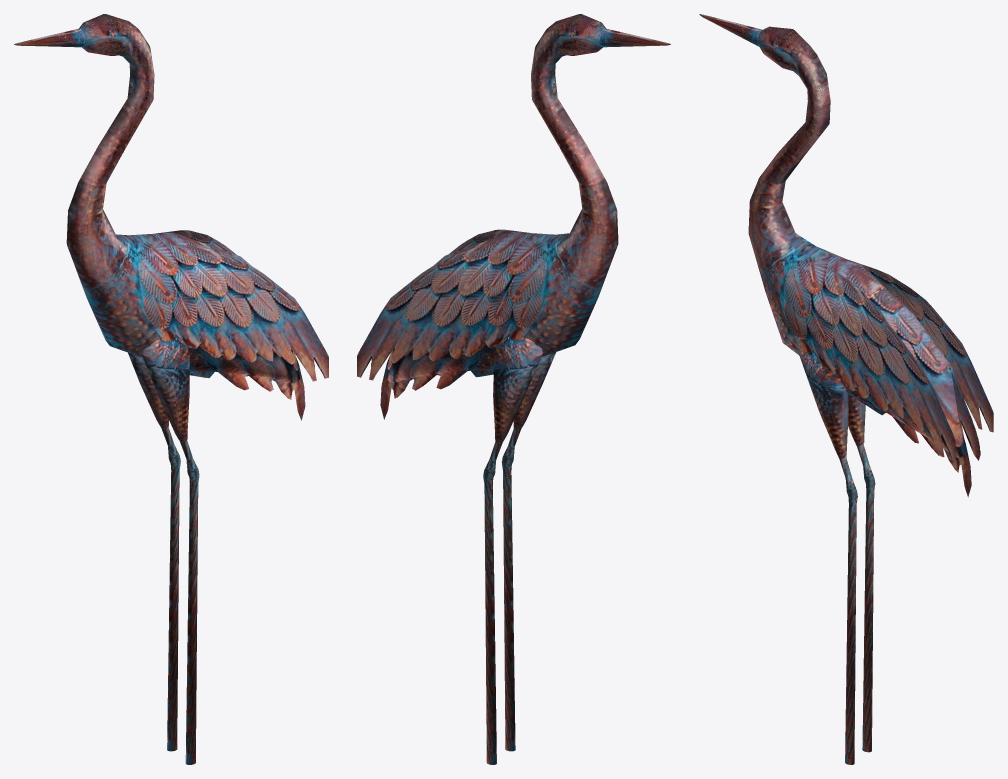
Rendered from Heron_split.fbx.
3 views of the same model, side by side, from view 1: azimuth 30°, elevation 25°; view 2: azimuth 150°, elevation 25°; view 3: azimuth 330°, elevation 25° (orthographic). The views are drawn at different scales.
Visible parts, largest first — view 1: Heron_Body, group_0, Heron_Neck, SketchUp_Instance_1, SketchUp_Instance_0, group_1; view 2: Heron_Body, group_0.001, Heron_Neck, SketchUp_Instance_0, SketchUp_Instance_1, group_1; view 3: Heron_Body, group_0, Heron_Neck, SketchUp_Instance_1, group_0.001, SketchUp_Instance_0, group_1.
Part boxes in pixels (x1,y1,x2,y2): Heron_Body: (67, 232, 300, 383); group_0: (137, 244, 328, 381); Heron_Neck: (14, 14, 154, 251); SketchUp_Instance_1: (142, 335, 199, 764); SketchUp_Instance_0: (128, 352, 180, 751); group_1: (189, 357, 314, 420); Heron_Body: (385, 232, 617, 382); group_0.001: (357, 244, 547, 380); Heron_Neck: (531, 14, 670, 250); SketchUp_Instance_0: (483, 334, 542, 764); SketchUp_Instance_1: (501, 352, 556, 751); group_1: (371, 355, 493, 419); Heron_Body: (748, 233, 965, 458); group_0: (780, 268, 955, 459); Heron_Neck: (699, 14, 830, 243); SketchUp_Instance_1: (798, 349, 857, 764); group_0.001: (846, 259, 993, 432); SketchUp_Instance_0: (848, 394, 875, 752); group_1: (857, 369, 980, 497).
Bounding box in the file's own units: 119 × 287 × 31.
